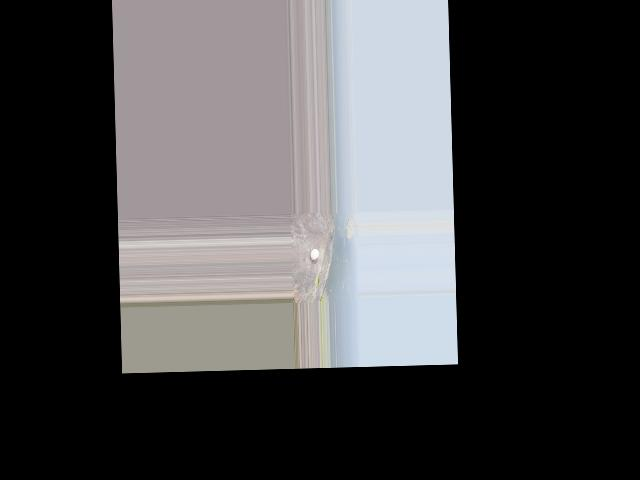egg: (310, 248, 319, 259)
